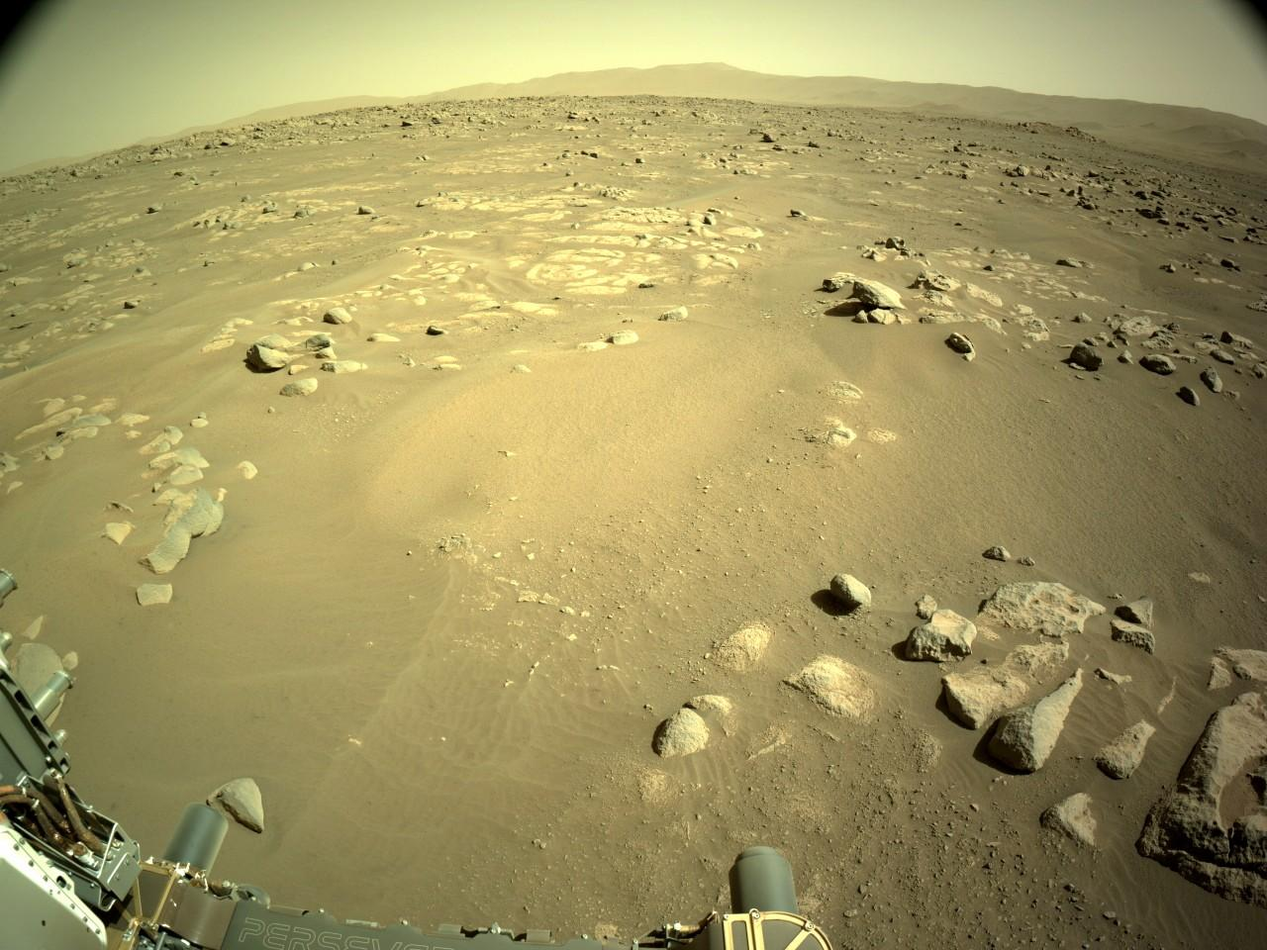bedrock: (3, 87, 1263, 574), (659, 429, 1265, 941), (923, 566, 1037, 591), (1125, 864, 1198, 898), (18, 636, 63, 688), (712, 916, 828, 924), (219, 428, 249, 457), (2, 541, 9, 638), (904, 332, 926, 338), (1180, 924, 1239, 925), (75, 697, 80, 700), (269, 379, 277, 380)
big_rock: (1263, 646, 1266, 712), (1262, 327, 1263, 338)
sand: (70, 740, 157, 849), (291, 897, 458, 922), (89, 634, 152, 690), (228, 873, 271, 893), (28, 489, 55, 509), (130, 652, 145, 667), (10, 369, 15, 401), (8, 403, 15, 423), (11, 493, 16, 517), (479, 918, 493, 926), (497, 915, 531, 917), (441, 892, 445, 897), (85, 692, 88, 694)
soil: (10, 640, 456, 941), (463, 922, 1245, 948), (1251, 471, 1259, 533), (1034, 373, 1063, 385), (705, 613, 715, 623), (992, 370, 1010, 375), (73, 709, 79, 717), (761, 582, 769, 586), (595, 902, 602, 906), (1263, 592, 1264, 618), (1120, 392, 1133, 394), (840, 545, 845, 547)
